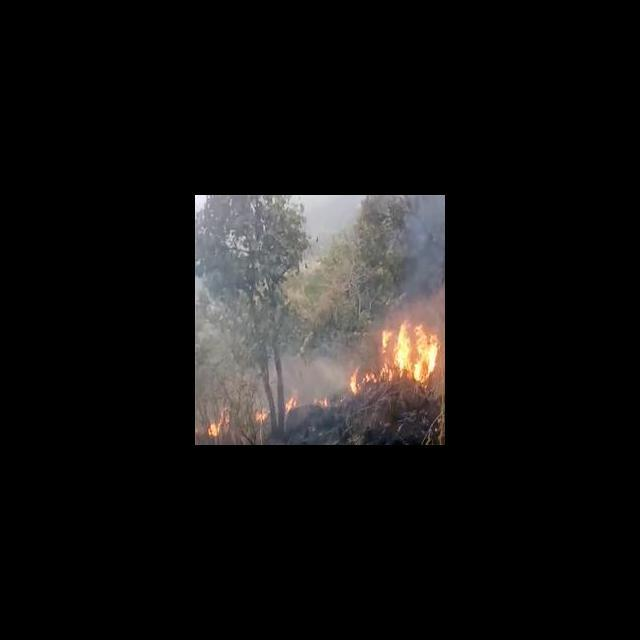Fire: (375, 318, 440, 384), (345, 367, 376, 394), (204, 409, 230, 439), (282, 393, 302, 412), (253, 406, 266, 423)
